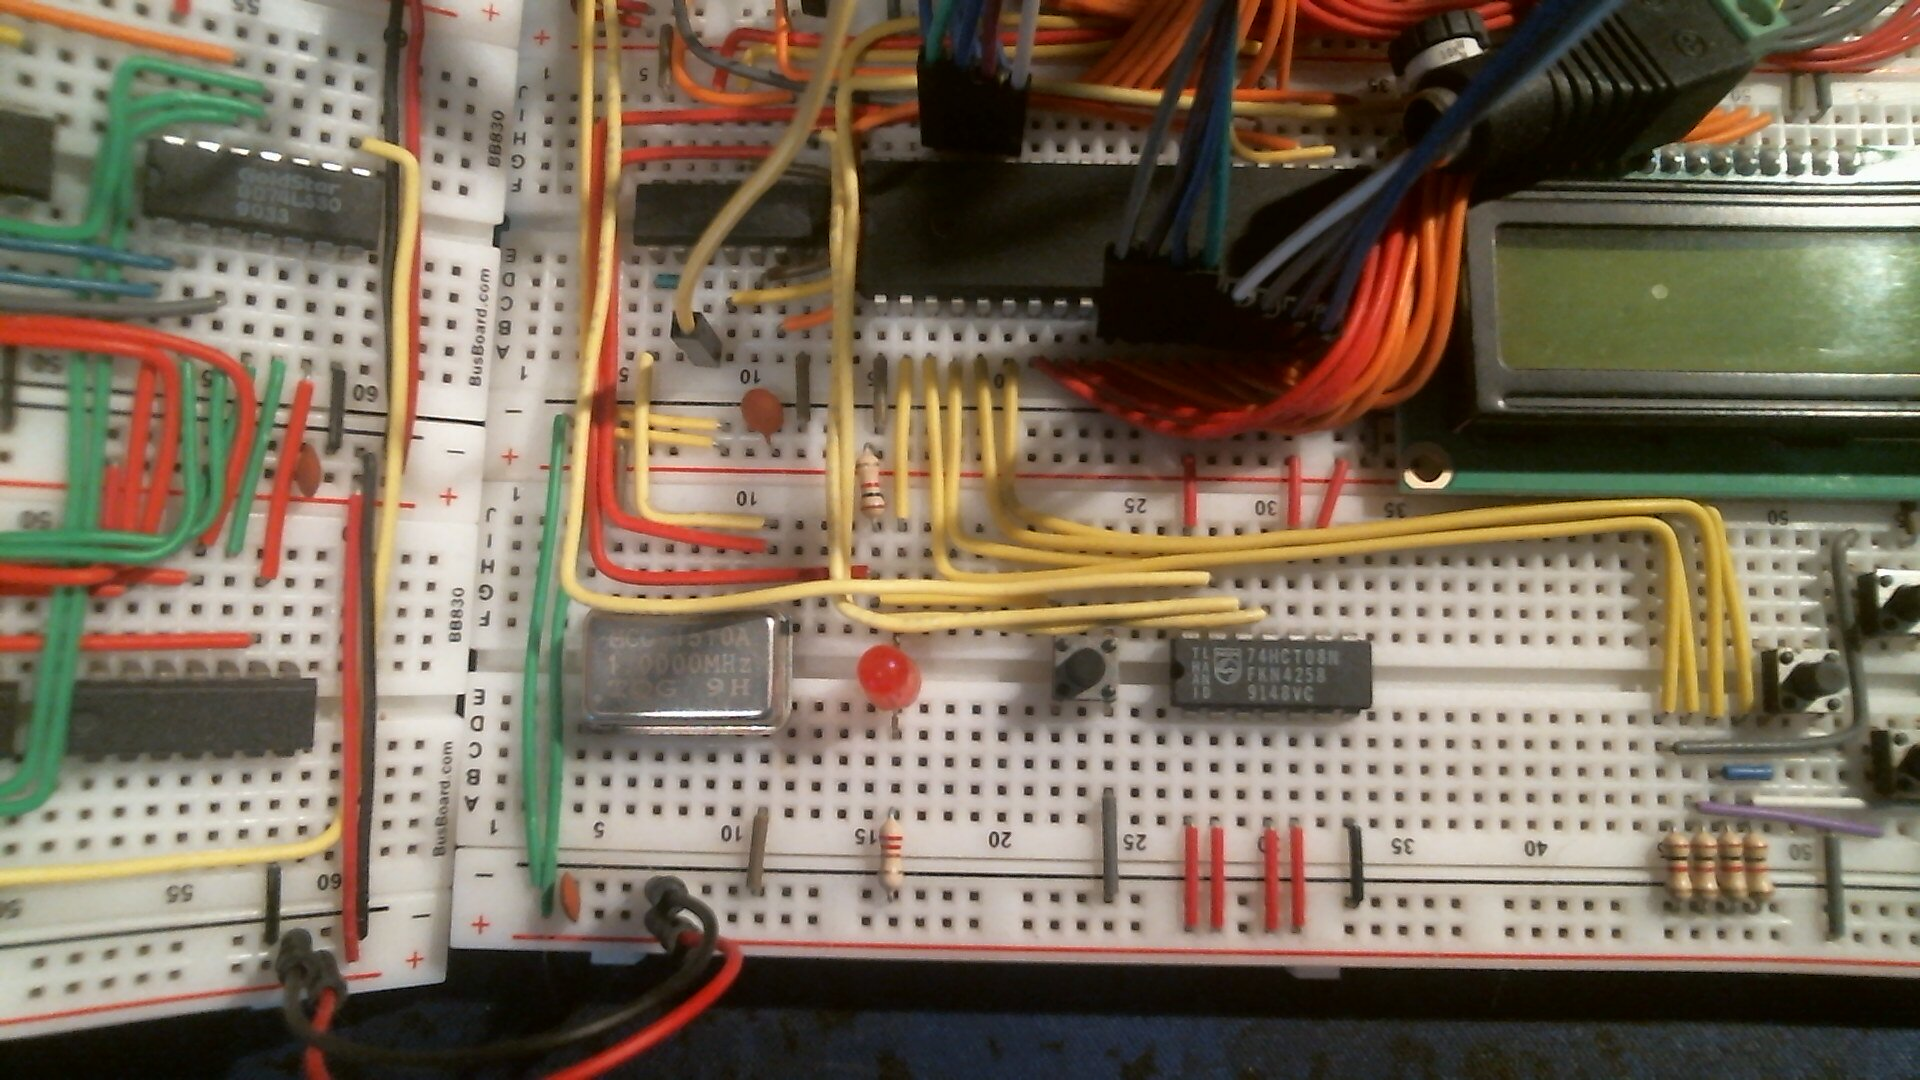IC: (140, 133, 385, 262), (67, 665, 319, 761), (1168, 626, 1375, 723)
LED: (853, 642, 924, 721)
ceramic_capacitor: (738, 386, 786, 448), (293, 440, 324, 502), (555, 868, 584, 927)
resistor: (855, 440, 889, 535), (1658, 822, 1692, 911), (876, 807, 907, 902), (1745, 822, 1776, 915), (1689, 822, 1720, 914), (1718, 822, 1747, 918)
